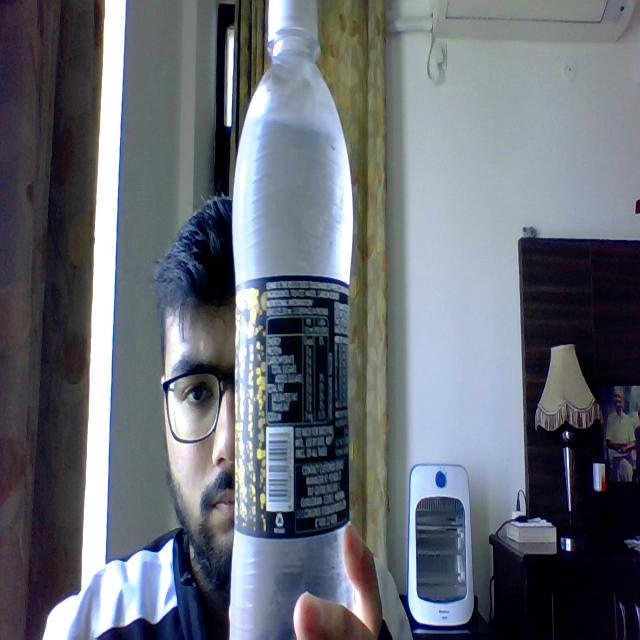full-bottle: (227, 0, 362, 640)
